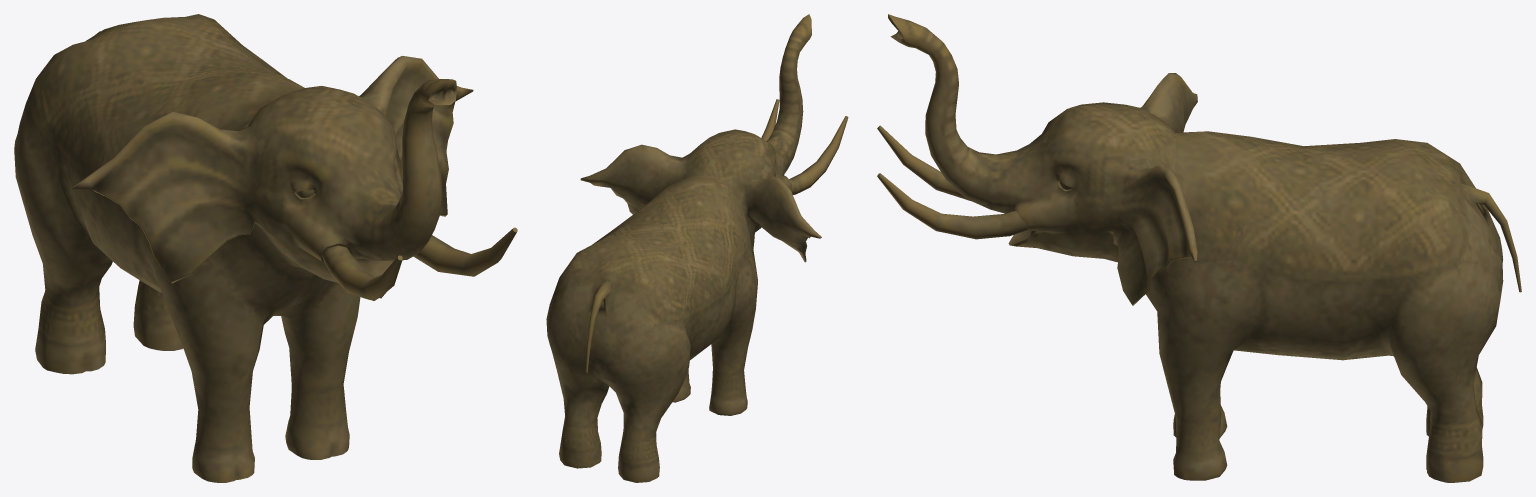
Rendered from elephantFigure01_gold.FBX.
3 views of the same model, side by side, from view 1: azimuth 30°, elevation 25°; view 2: azimuth 150°, elevation 25°; view 3: azimuth 270°, elevation 25° (orthographic). The views are drawn at different scales.
Visible parts, largest first — view 1: SM_ElephantFigure01; view 2: SM_ElephantFigure01; view 3: SM_ElephantFigure01.
Part boxes in pixels (x1=…): SM_ElephantFigure01: x1=14, y1=14, x2=517, y2=482; SM_ElephantFigure01: x1=546, y1=14, x2=848, y2=482; SM_ElephantFigure01: x1=877, y1=14, x2=1521, y2=482.
Bounding box in the file's own units: 28.29 × 34.47 × 46.14.
Materials: 1 (1 with a texture image).
